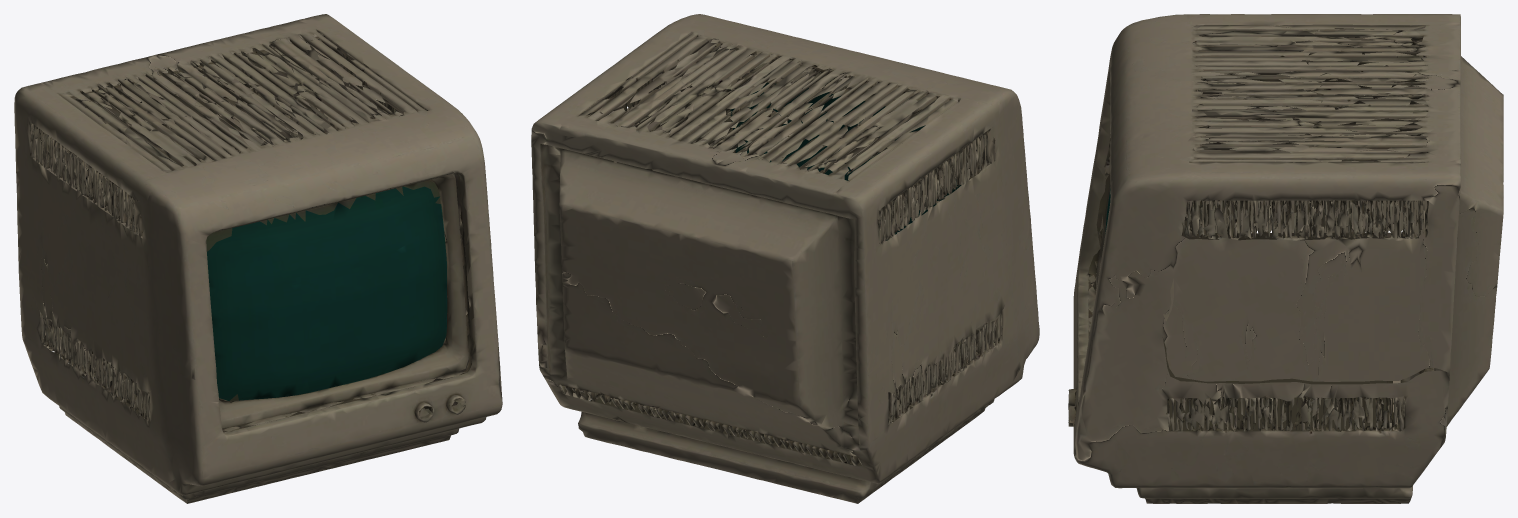
The model's file is crt.glb.
The picture shows the model from 3 angles, left to right: view 1: azimuth 30°, elevation 25°; view 2: azimuth 150°, elevation 25°; view 3: azimuth 270°, elevation 25°; orthographic projection. The views are drawn at different scales.
Parts seen in each view (by area): view 1: geometry_0; view 2: geometry_0; view 3: geometry_0.
Boxes of the visible parts, box(x1,y1,x2,y2) form: geometry_0: box(14, 14, 502, 503); geometry_0: box(531, 14, 1039, 503); geometry_0: box(1068, 14, 1503, 503).
Bounding box in the file's own units: 0.912 × 0.865 × 1.
2 materials, 2 textured.
